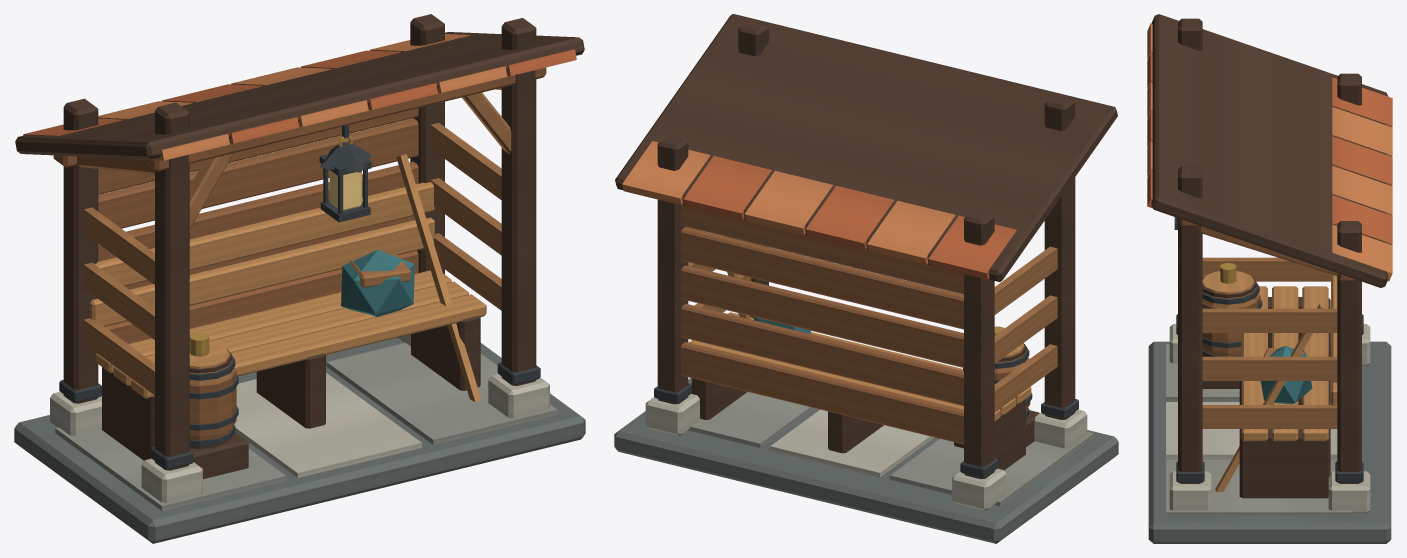
File: roadside_bench_shelter.glb
3 renders of one model, left to right at view 1: azimuth 30°, elevation 25°; view 2: azimuth 150°, elevation 25°; view 3: azimuth 270°, elevation 25°, orthographic. The views are drawn at different scales.
Visible parts, largest first — view 1: roadside_bench_shelter; view 2: roadside_bench_shelter; view 3: roadside_bench_shelter.
Part boxes in pixels (x1,y1,x2,y2): roadside_bench_shelter: (14, 14, 585, 543); roadside_bench_shelter: (614, 14, 1118, 543); roadside_bench_shelter: (1147, 14, 1392, 543).
Size of the model in its own units: 2.32 by 2.08 by 1.3.
Materials: 1 (1 with a texture image).
